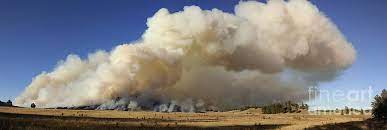smoke: (28, 1, 352, 110)
